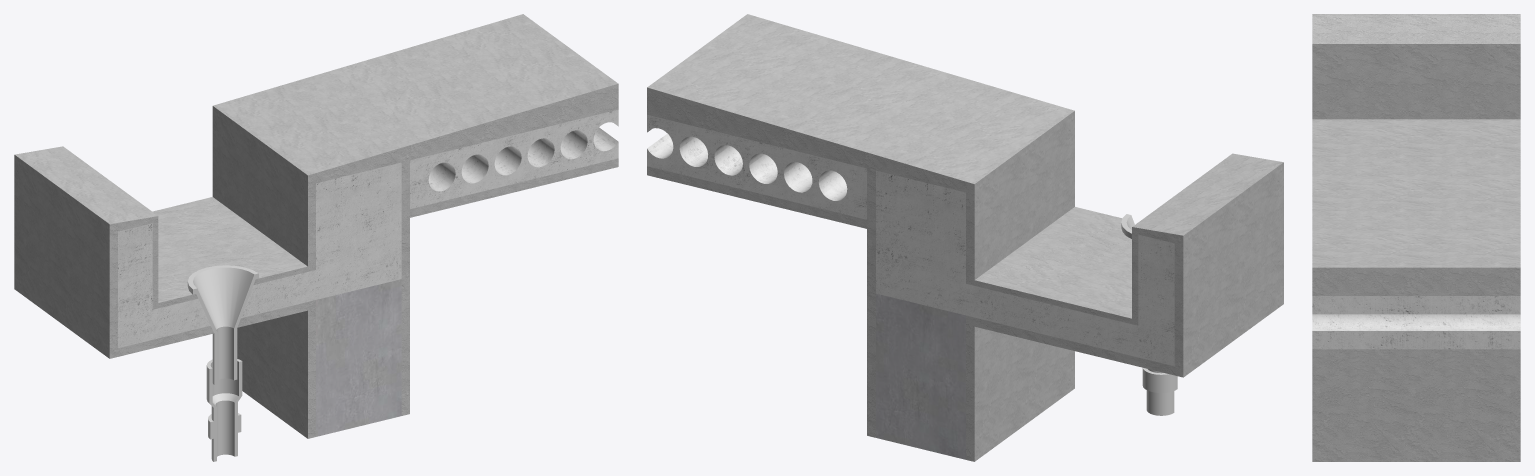
The model's file is organized-drainage.glb.
The picture shows the model from 3 angles, left to right: view 1: azimuth 30°, elevation 25°; view 2: azimuth 150°, elevation 25°; view 3: azimuth 270°, elevation 25°; orthographic projection. The views are drawn at different scales.
Visible parts, largest first — view 1: 04, 01, 03, 02; view 2: 04, 01, 03, 02; view 3: 04, 03.
Boxes of the visible parts, left/top/right/bottom form: 04: left=14, top=14, right=618, bottom=438; 01: left=118, top=162, right=401, bottom=436; 03: left=410, top=109, right=618, bottom=208; 02: left=187, top=265, right=258, bottom=461; 04: left=647, top=14, right=1283, bottom=461; 01: left=876, top=170, right=1174, bottom=459; 03: left=647, top=114, right=866, bottom=219; 02: left=1121, top=214, right=1177, bottom=415; 04: left=1312, top=14, right=1520, bottom=461; 03: left=1312, top=296, right=1520, bottom=349.
Size of the model in its own units: 3.08 by 1.62 by 1.
Materials: 5 (4 with a texture image).
